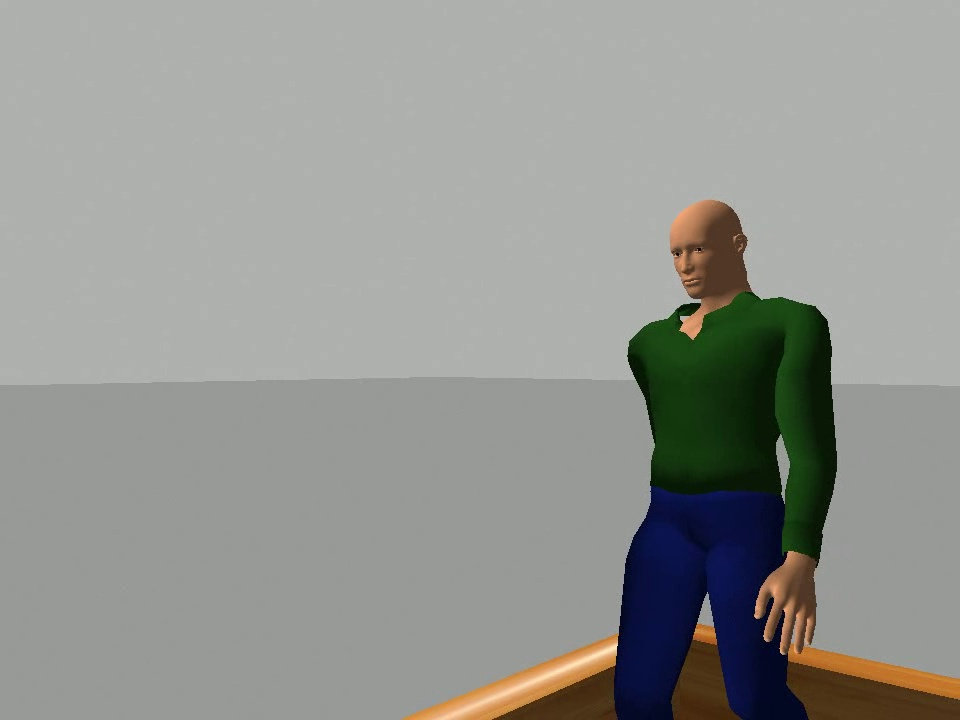person: (605, 197, 851, 720)
